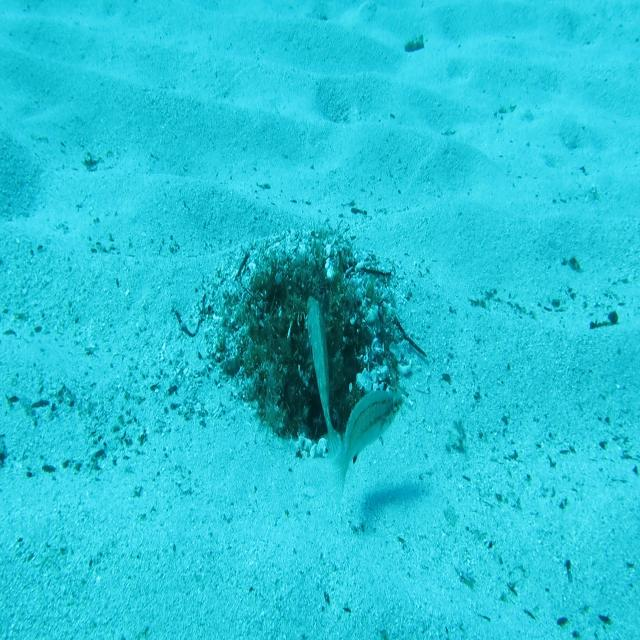INSF: (304, 294, 342, 464)
core_nest: (285, 264, 341, 313)
female: (326, 387, 407, 510)
nest: (194, 216, 418, 466)
vegetation: (405, 36, 426, 60)
